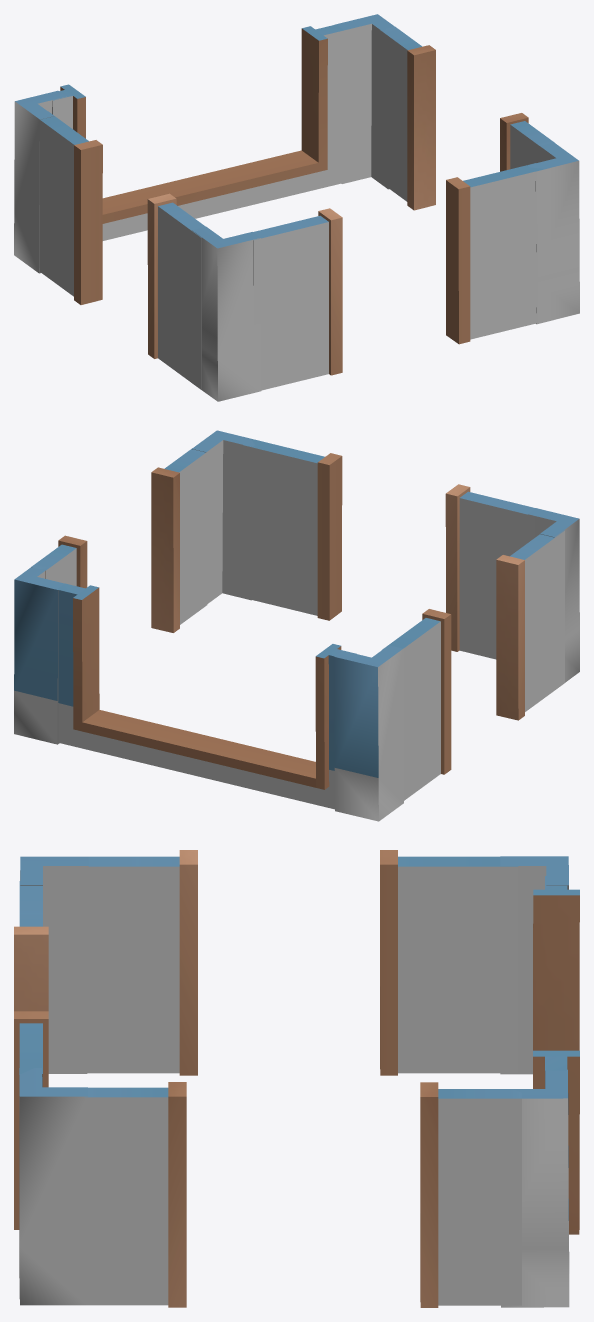
The model's file is LIBRERIA.fbx.
The picture shows the model from 3 angles, top to bottom: view 1: azimuth 30°, elevation 25°; view 2: azimuth 150°, elevation 25°; view 3: azimuth 270°, elevation 25°; orthographic projection. The views are drawn at different scales.
Visible parts, largest first — view 1: paret_puerta49, paret_puerta50, paret_con_ventana_grande24, paret_con_borde14, paret_esquina_84, paret_esquina_82, paret_esquina_79, paret_esquina_81, paret_con_borde13; view 2: paret_puerta49, paret_puerta50, paret_con_ventana_grande24, paret_esquina_81, paret_con_borde13, paret_esquina_79, paret_esquina_82, paret_esquina_84, paret_con_borde14; view 3: paret_puerta50, paret_con_borde13, paret_con_borde14, paret_esquina_82, paret_esquina_79, paret_con_ventana_grande24, paret_esquina_84, paret_puerta49, paret_esquina_81.
Boxes of the visible parts, left/top/right/bottom form: paret_puerta49: left=253, top=163, right=544, bottom=390; paret_puerta50: left=40, top=111, right=205, bottom=389; paret_con_ventana_grande24: left=52, top=24, right=344, bottom=240; paret_con_borde14: left=380, top=26, right=435, bottom=210; paret_esquina_84: left=192, top=226, right=261, bottom=401; paret_esquina_82: left=527, top=142, right=579, bottom=324; paret_esquina_79: left=335, top=14, right=394, bottom=189; paret_esquina_81: left=14, top=90, right=66, bottom=273; paret_con_borde13: left=500, top=113, right=554, bottom=171; paret_puerta49: left=243, top=439, right=535, bottom=659; paret_puerta50: left=382, top=530, right=564, bottom=800; paret_con_ventana_grande24: left=57, top=583, right=356, bottom=809; paret_esquina_81: left=334, top=645, right=403, bottom=821; paret_con_borde13: left=151, top=448, right=207, bottom=632; paret_esquina_79: left=14, top=567, right=64, bottom=744; paret_esquina_82: left=192, top=430, right=254, bottom=603; paret_esquina_84: left=527, top=508, right=579, bottom=682; paret_con_borde14: left=31, top=535, right=87, bottom=588; paret_puerta50: left=87, top=850, right=518, bottom=1075; paret_con_borde13: left=84, top=1082, right=186, bottom=1307; paret_con_borde14: left=420, top=1082, right=521, bottom=1307; paret_esquina_82: left=19, top=1068, right=88, bottom=1305; paret_esquina_79: left=501, top=1069, right=569, bottom=1307; paret_con_ventana_grande24: left=533, top=876, right=579, bottom=1234; paret_esquina_84: left=20, top=856, right=88, bottom=1073; paret_puerta49: left=14, top=881, right=48, bottom=1229; paret_esquina_81: left=500, top=856, right=568, bottom=1074.
Size of the model in its own units: 841 by 343 by 820.
